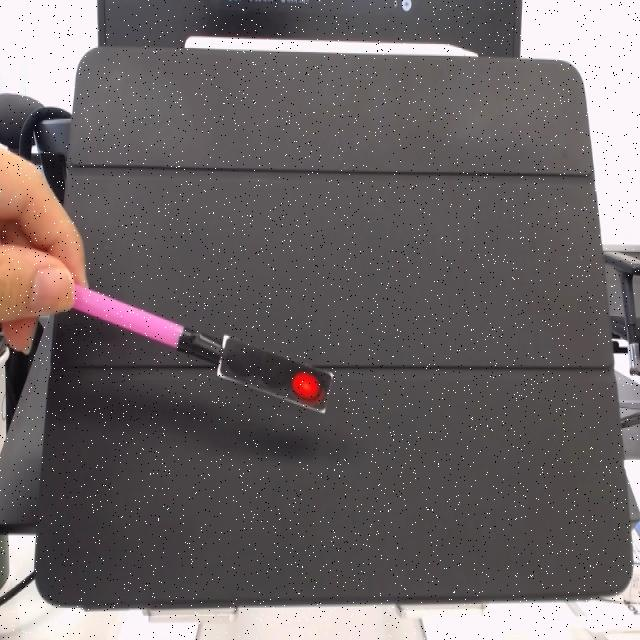traffic light: (215, 337, 333, 416)
